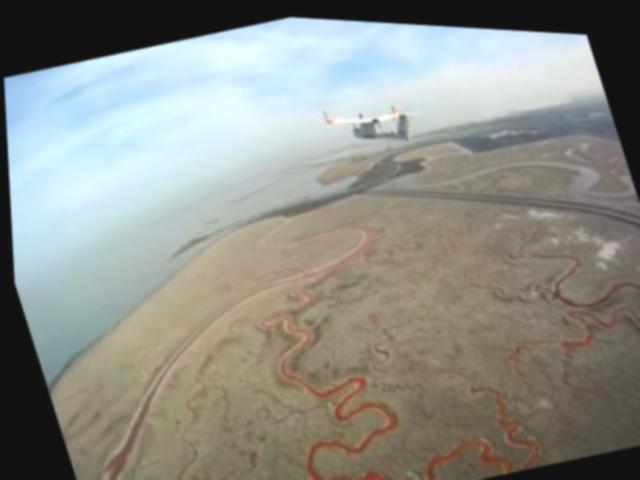uav: (314, 77, 428, 163)
